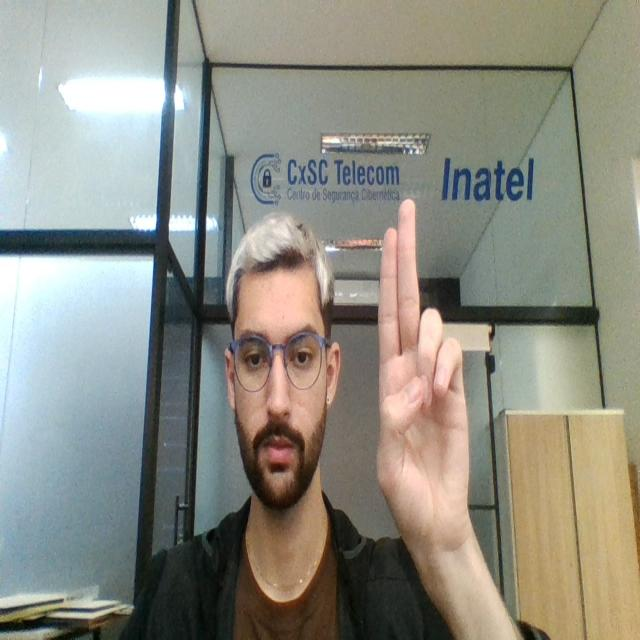U: (374, 194, 476, 533)
